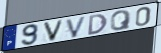0: (134, 6, 153, 28)
9: (21, 23, 40, 47)
D: (88, 13, 109, 36)
Q: (110, 9, 133, 31)
V: (42, 19, 66, 43), (65, 15, 88, 39)
